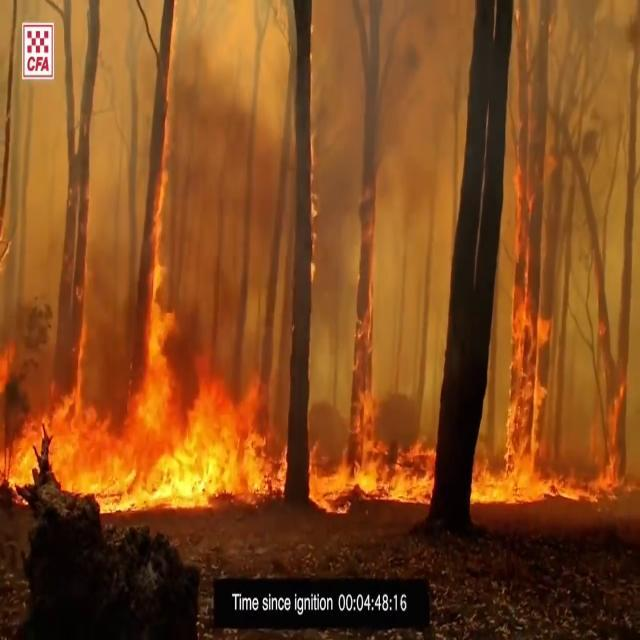Fire: (209, 240, 640, 524), (0, 165, 270, 510)
Smoke: (0, 0, 640, 329)
